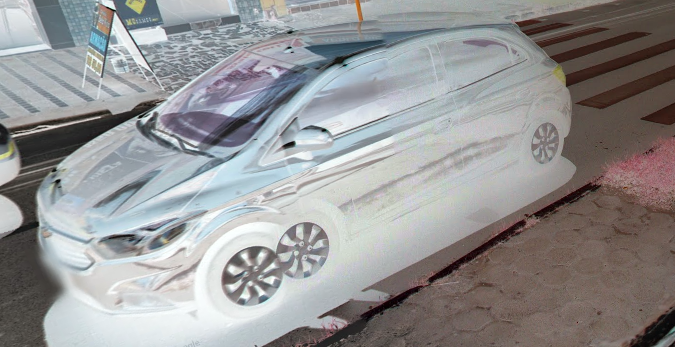car: (35, 13, 573, 321)
